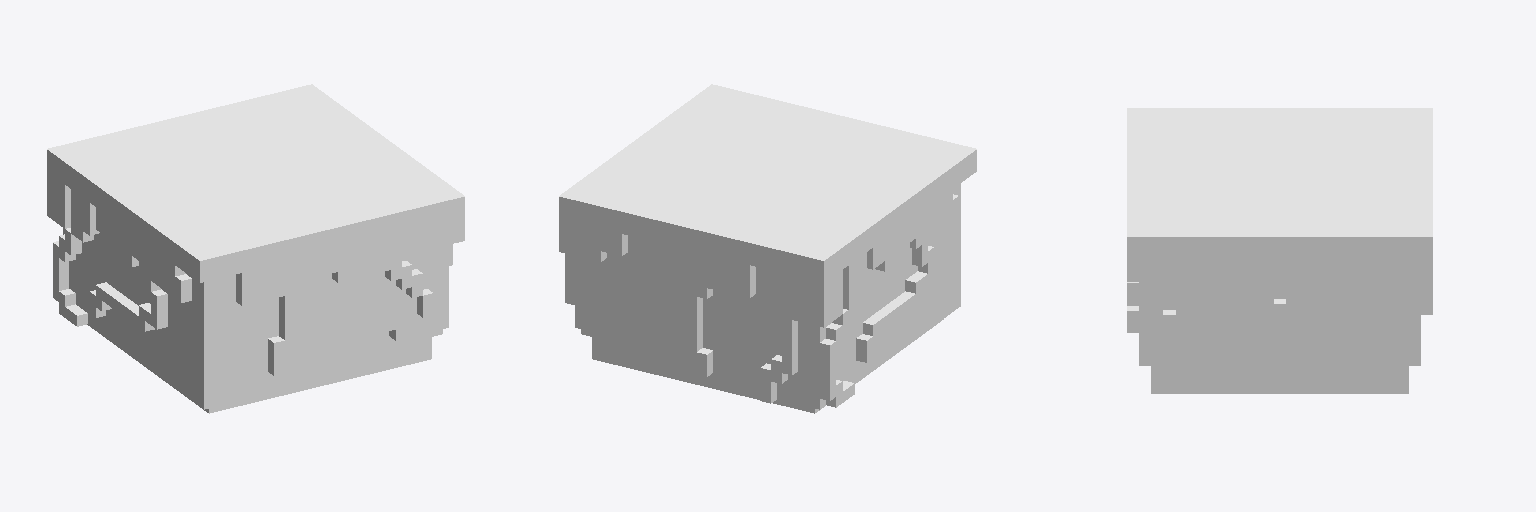
The model's file is TestGame-2.obj.
3 renders of one model, left to right at view 1: azimuth 30°, elevation 25°; view 2: azimuth 150°, elevation 25°; view 3: azimuth 270°, elevation 25°, orthographic.
Visible parts, largest first — view 1: object 1; view 2: object 1; view 3: object 1.
Boxes of the visible parts, <box> form: object 1: <box>47,84,464,413</box>; object 1: <box>559,84,976,413</box>; object 1: <box>1127,108,1432,393</box>.
Bounding box in the file's own units: 2.5 × 1.5 × 2.5.